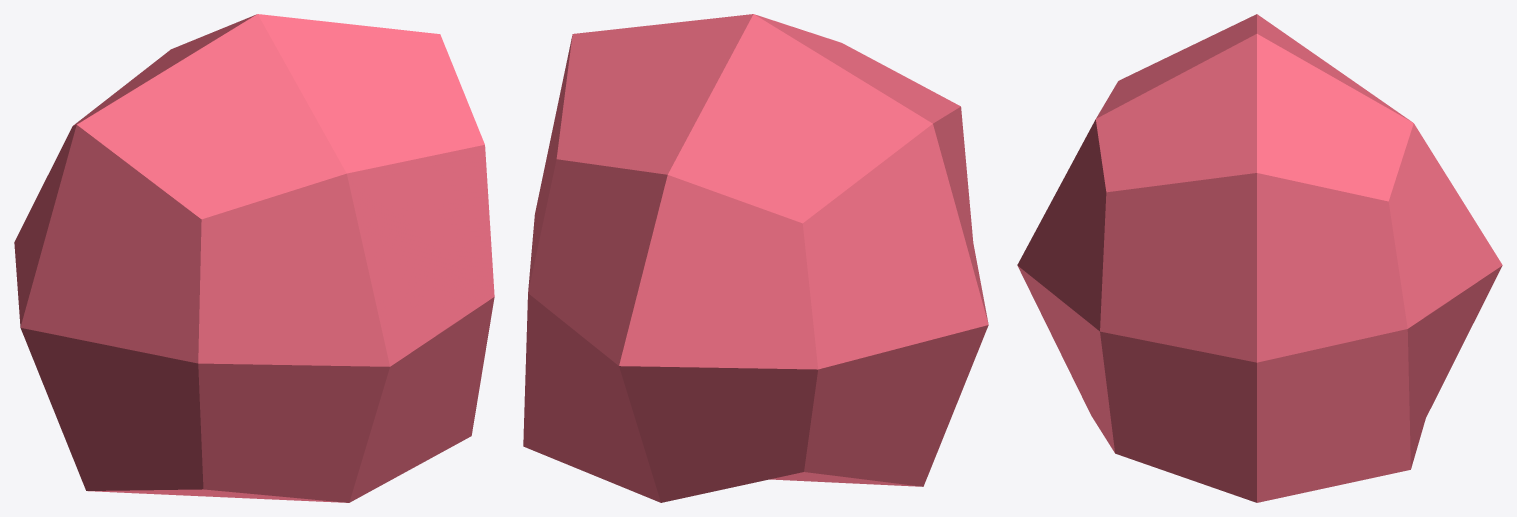
File: asteroid2.glb
3 views of the same model, side by side, from view 1: azimuth 30°, elevation 25°; view 2: azimuth 150°, elevation 25°; view 3: azimuth 270°, elevation 25° (orthographic). The views are drawn at different scales.
Parts seen in each view (by area): view 1: Cube.001; view 2: Cube.001; view 3: Cube.001.
Part boxes in pixels (left/top/right/bottom): Cube.001: left=14, top=14, right=494, bottom=502; Cube.001: left=523, top=14, right=988, bottom=502; Cube.001: left=1017, top=14, right=1502, bottom=502.
Size of the model in its own units: 2.97 by 2.91 by 3.01.
Materials: 1 (1 with a texture image).
